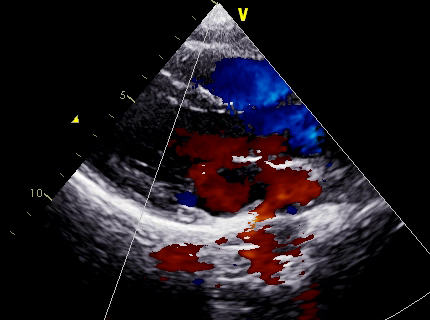AR: (190, 115, 279, 163)
